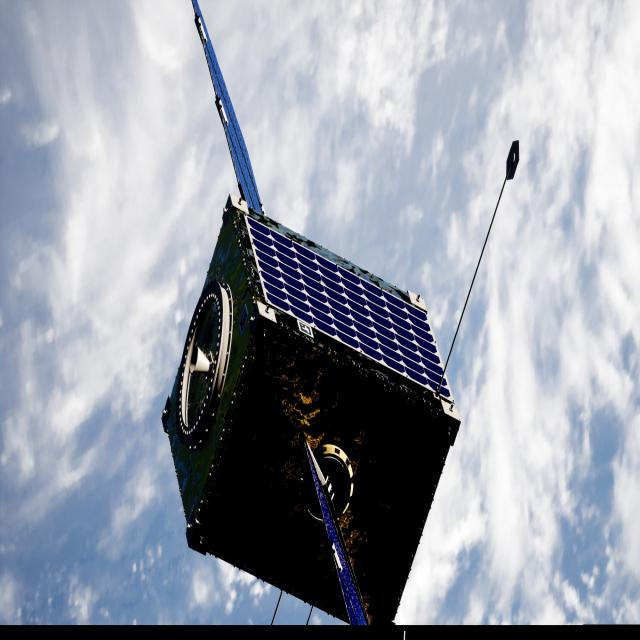medium_debris: (161, 52, 460, 628)
